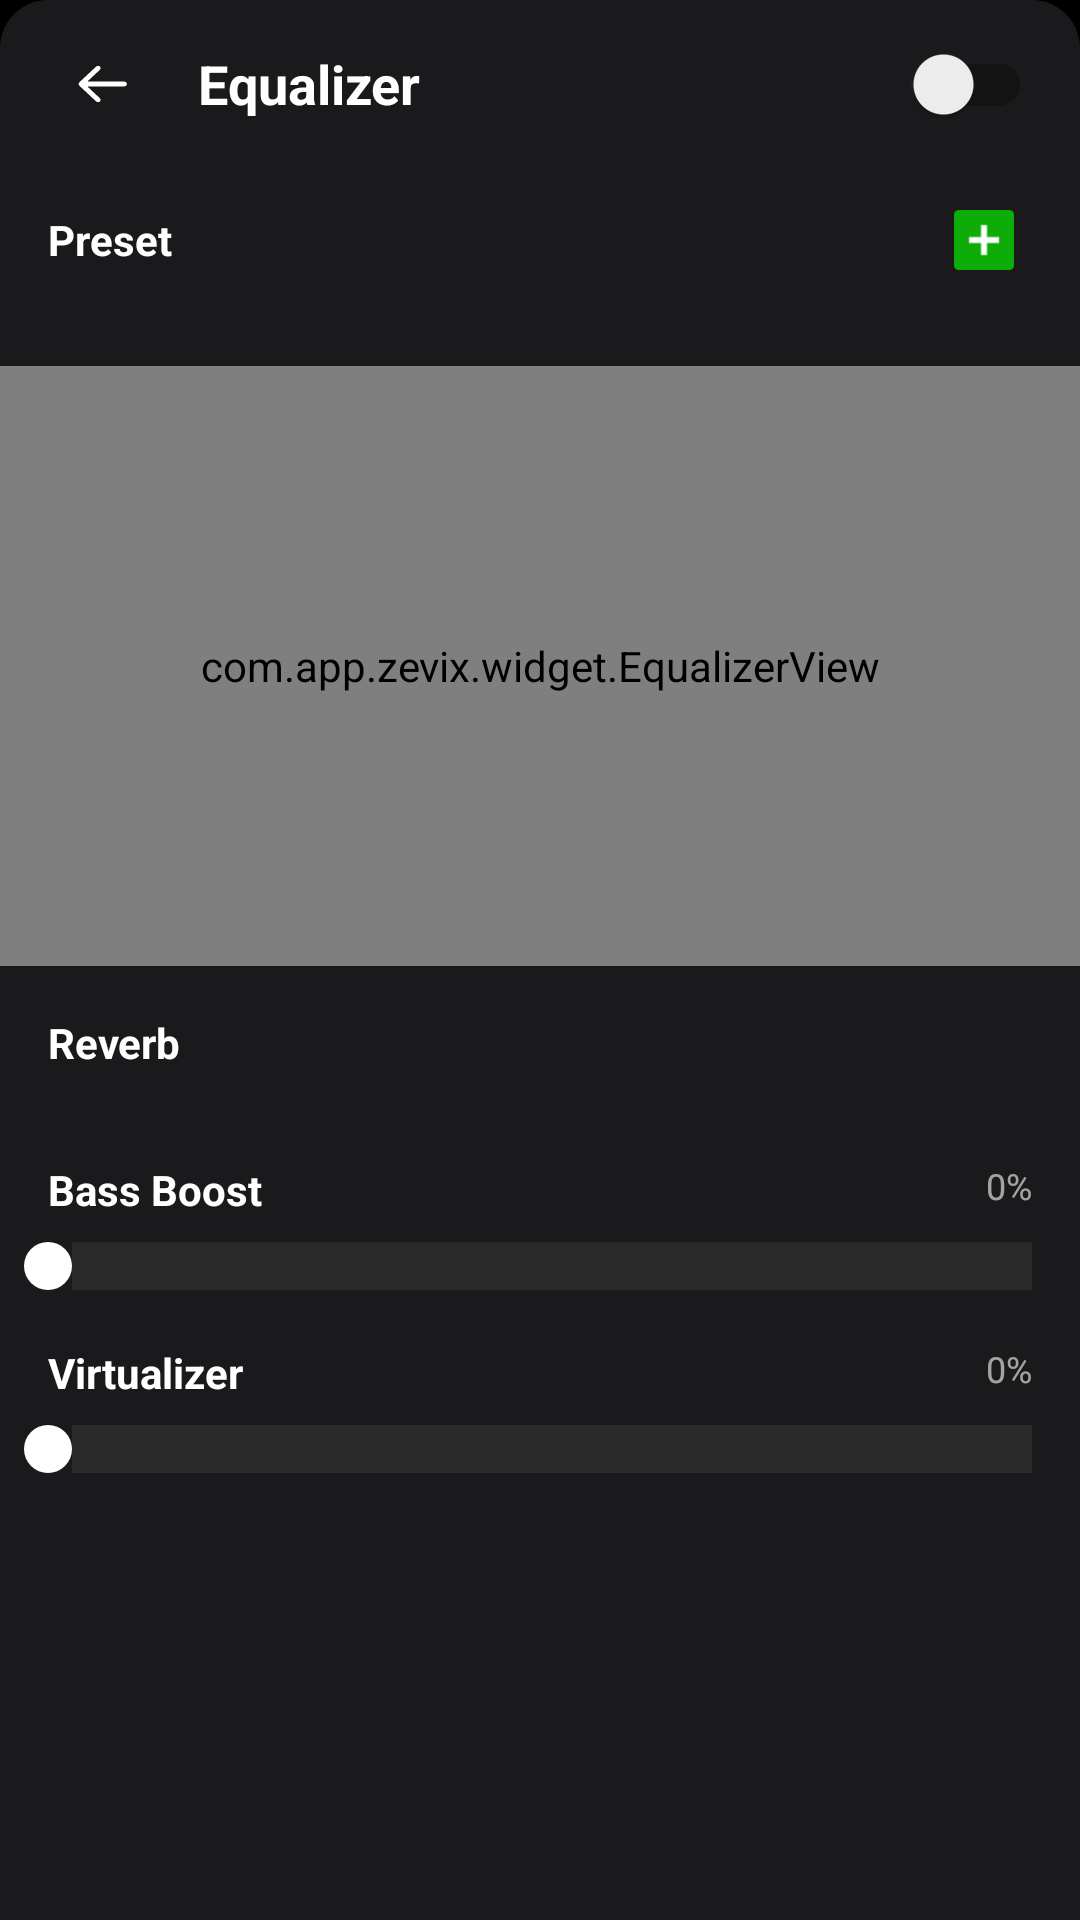

Icon bounding boxes for this 1080 x 1920 phone screenshot, format (x1, y1, x2, y2):
add: (954, 210, 1014, 270)
back: (78, 66, 127, 102)
